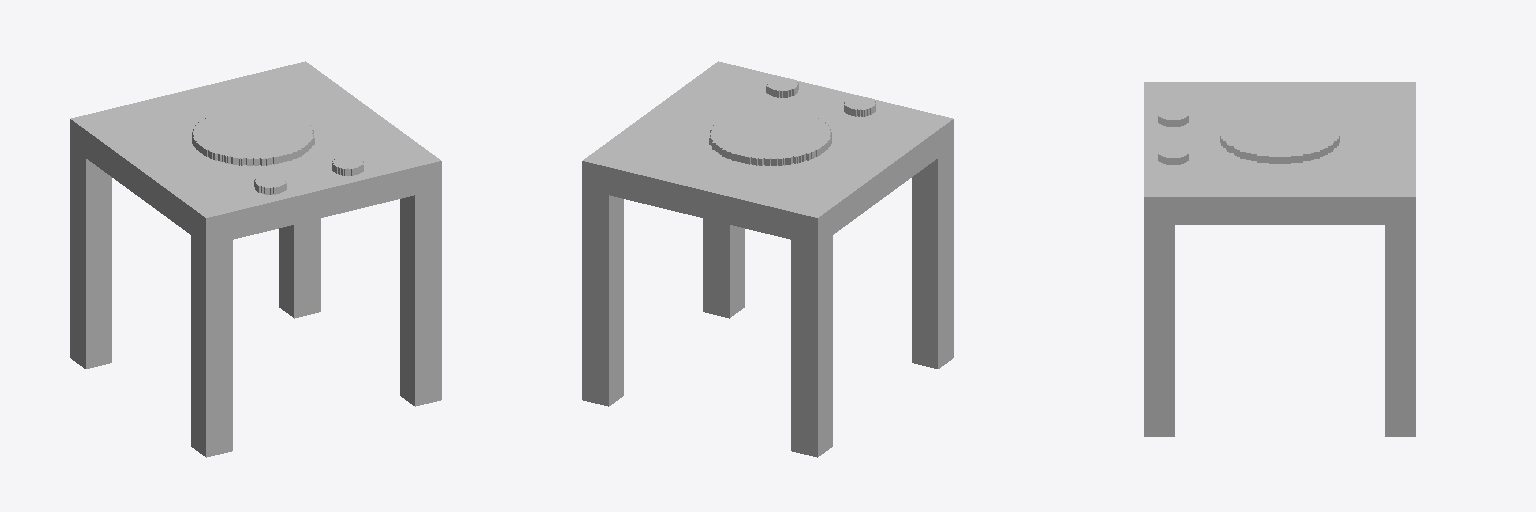
File: MesaFuego.obj
3 views of the same model, side by side, from view 1: azimuth 30°, elevation 25°; view 2: azimuth 150°, elevation 25°; view 3: azimuth 270°, elevation 25° (orthographic).
Parts seen in each view (by area): view 1: object 1; view 2: object 1; view 3: object 1.
Boxes of the visible parts, x1,y1,x2,y2 form: object 1: [70, 61, 441, 457]; object 1: [582, 61, 953, 457]; object 1: [1144, 82, 1415, 436].
Size of the model in its own units: 17.6 by 17.6 by 17.6.